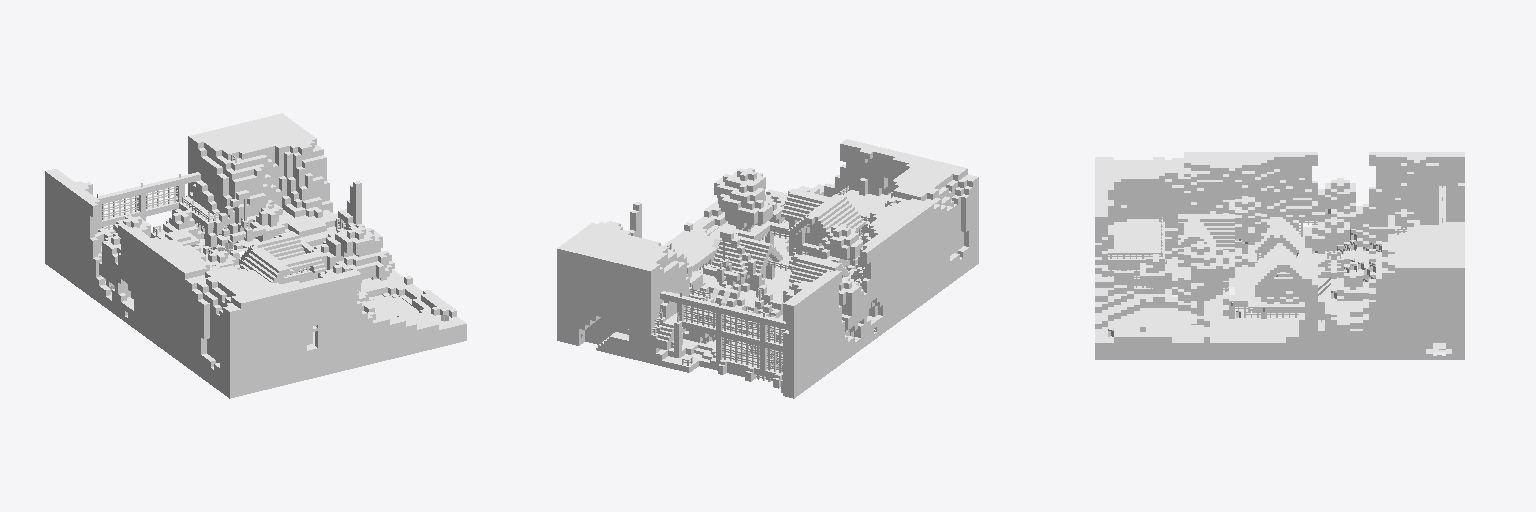
Rendered from drearyvil.obj.
The picture shows the model from 3 angles: view 1: azimuth 30°, elevation 25°; view 2: azimuth 150°, elevation 25°; view 3: azimuth 270°, elevation 25°; orthographic projection.
Visible parts, largest first — view 1: Etho's_LP_Ep550__-807_124_-2948_to_-765_139_-2891; view 2: Etho's_LP_Ep550__-807_124_-2948_to_-765_139_-2891; view 3: Etho's_LP_Ep550__-807_124_-2948_to_-765_139_-2891.
Part boxes in pixels (left/top/right/bottom): Etho's_LP_Ep550__-807_124_-2948_to_-765_139_-2891: left=45, top=113, right=466, bottom=398; Etho's_LP_Ep550__-807_124_-2948_to_-765_139_-2891: left=557, top=139, right=978, bottom=398; Etho's_LP_Ep550__-807_124_-2948_to_-765_139_-2891: left=1095, top=152, right=1464, bottom=359.
Bounding box in the file's own units: 43 × 16 × 58.